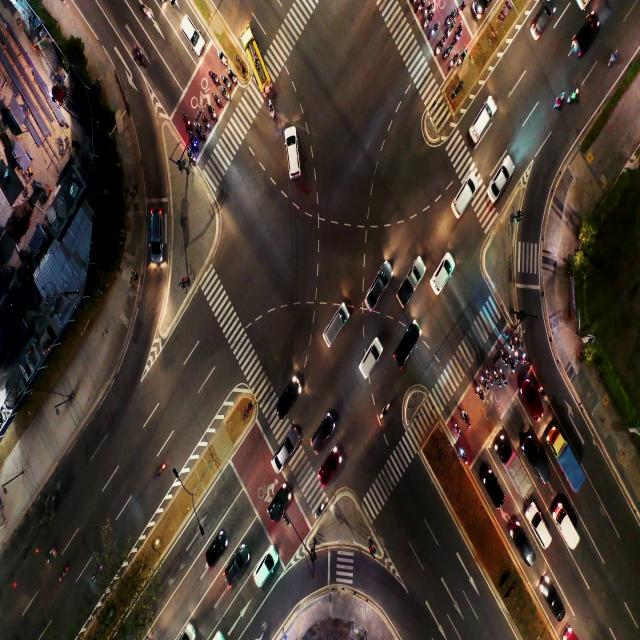bus: (251, 54, 260, 71)
car: (330, 307, 346, 346), (286, 148, 300, 174), (367, 282, 383, 304), (488, 175, 504, 196), (152, 214, 161, 251), (576, 27, 591, 47), (208, 545, 220, 569), (314, 430, 328, 450), (260, 560, 272, 582), (487, 478, 498, 502), (365, 352, 378, 372), (398, 338, 411, 358), (436, 267, 447, 290), (272, 496, 284, 516), (457, 188, 469, 208), (549, 590, 559, 614), (187, 26, 198, 46), (322, 467, 336, 482), (533, 453, 543, 474), (528, 395, 539, 414), (278, 450, 288, 470), (473, 119, 483, 138), (538, 524, 548, 542), (534, 19, 544, 36), (280, 397, 291, 412), (519, 541, 528, 554), (232, 563, 240, 577)
motorcycle: (93, 564, 103, 582), (48, 545, 59, 561), (380, 402, 390, 419), (569, 85, 580, 100), (156, 464, 165, 480), (316, 502, 325, 518), (136, 50, 143, 66), (608, 51, 616, 64), (556, 92, 562, 109), (416, 2, 424, 12), (142, 8, 150, 17), (60, 568, 66, 579), (213, 96, 220, 105), (269, 102, 274, 114), (447, 27, 453, 37), (459, 4, 465, 14), (431, 26, 437, 36), (461, 410, 467, 419), (508, 354, 512, 367), (210, 71, 215, 81), (229, 70, 234, 80), (475, 386, 481, 394), (460, 447, 464, 458), (425, 7, 431, 14), (457, 31, 461, 41), (508, 339, 512, 348), (523, 353, 527, 362), (450, 59, 454, 68), (209, 107, 214, 114), (220, 54, 225, 61), (191, 139, 195, 147), (436, 45, 440, 53), (188, 152, 193, 158), (443, 52, 448, 58), (540, 387, 544, 394), (454, 422, 458, 429), (461, 53, 465, 60), (425, 19, 429, 26), (185, 116, 188, 125), (203, 116, 206, 124), (224, 92, 228, 98), (222, 78, 225, 86), (493, 371, 497, 377), (447, 17, 451, 23), (198, 125, 200, 134), (500, 368, 503, 374), (502, 352, 504, 361), (516, 351, 518, 359), (516, 337, 518, 344), (482, 377, 484, 382), (486, 371, 488, 376)
truck: (406, 271, 416, 300), (560, 455, 574, 472), (565, 520, 576, 540), (509, 459, 520, 475)
